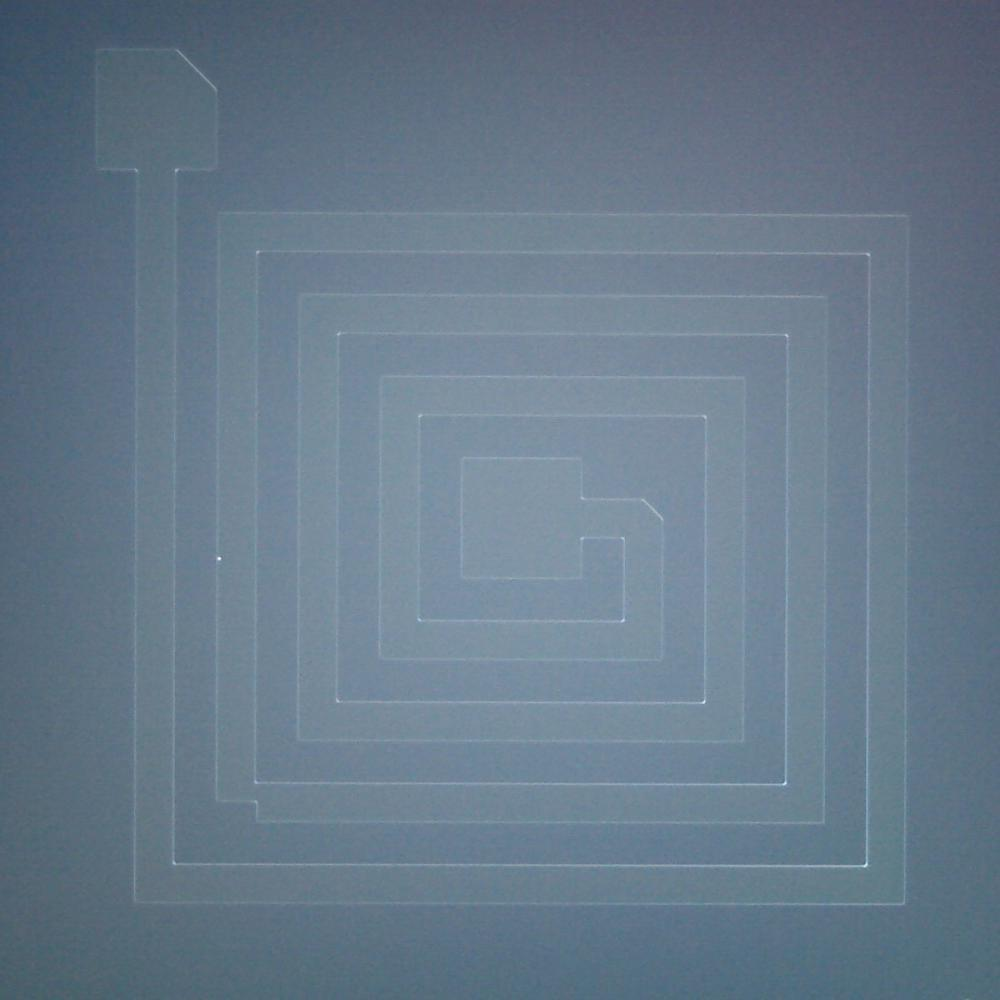dot: (206, 542, 232, 574)
edge circuit: (166, 35, 230, 106), (205, 792, 272, 832), (632, 481, 676, 532)
